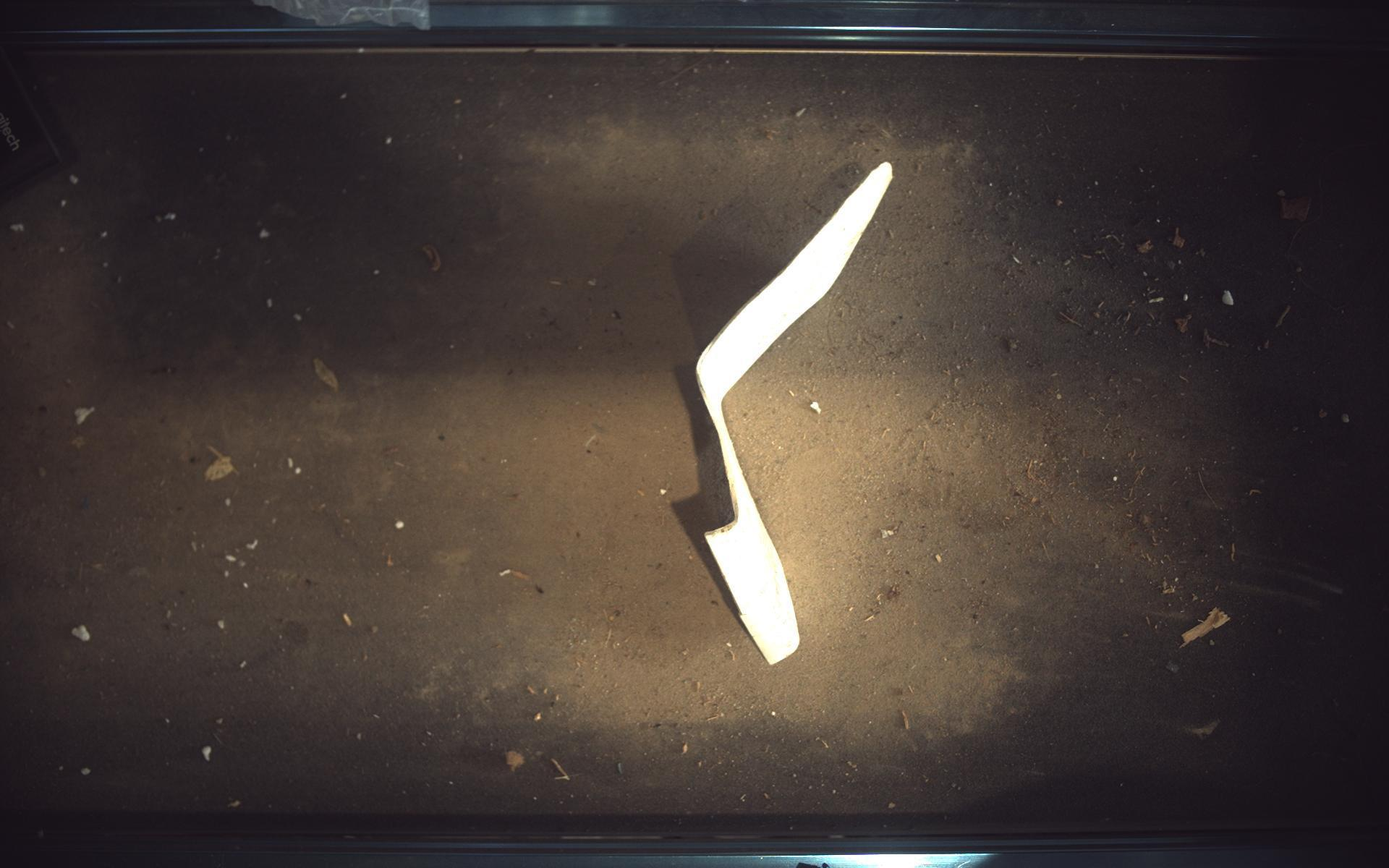plastic: (697, 161, 894, 665)
